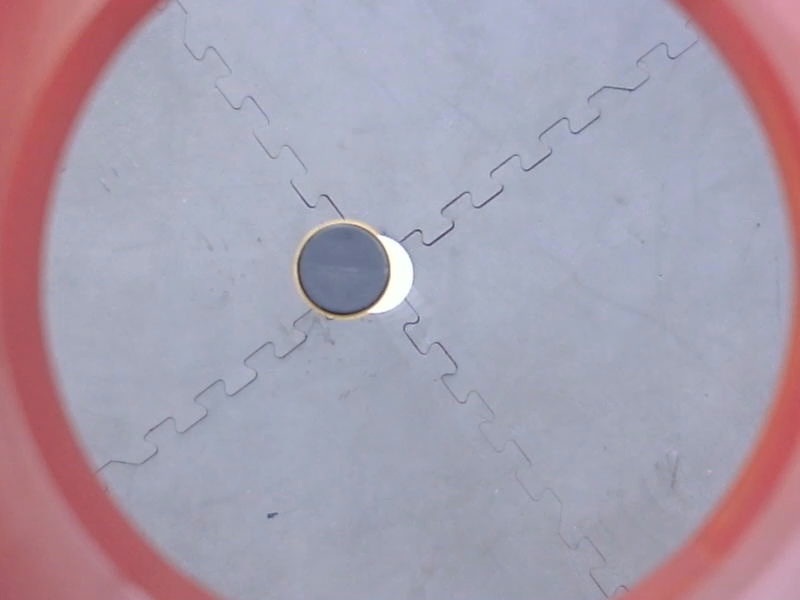tip: (290, 216, 396, 323)
